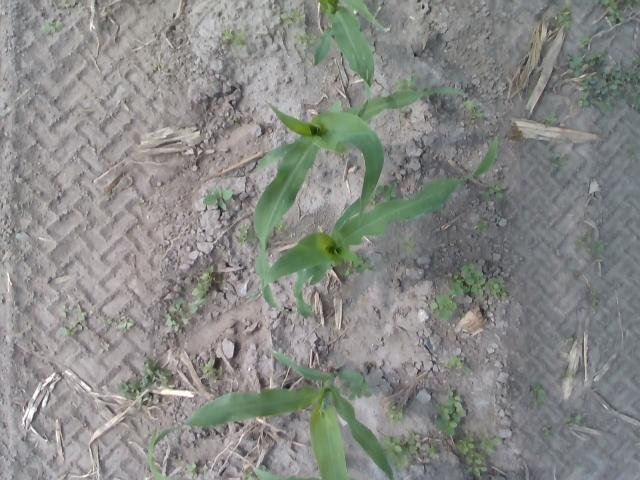Maize: (254, 86, 462, 310), (263, 136, 498, 318), (146, 351, 396, 480), (312, 0, 384, 96), (252, 467, 320, 480)
Weeds: (435, 390, 467, 436), (454, 264, 486, 294), (595, 68, 625, 97), (385, 436, 408, 472), (570, 55, 602, 78), (204, 188, 233, 211), (431, 296, 456, 319), (467, 450, 488, 477), (117, 376, 150, 393), (194, 269, 212, 297), (596, 0, 638, 11), (282, 7, 304, 27), (480, 432, 500, 452), (530, 384, 545, 410), (348, 384, 371, 400), (155, 368, 175, 384), (408, 430, 422, 452), (458, 436, 474, 455), (378, 183, 398, 198), (489, 276, 505, 294), (490, 183, 508, 198), (141, 358, 156, 376), (74, 303, 88, 322), (42, 22, 64, 34), (630, 84, 640, 110), (169, 298, 185, 314), (448, 357, 468, 369), (626, 68, 640, 84), (404, 236, 420, 250), (608, 8, 623, 22), (238, 226, 250, 243), (118, 318, 135, 330), (190, 300, 205, 313), (578, 92, 590, 108), (598, 101, 612, 114), (186, 464, 198, 479), (596, 237, 608, 252), (56, 327, 71, 339), (590, 290, 600, 308), (582, 80, 596, 92), (561, 0, 573, 14), (388, 406, 400, 420), (300, 35, 318, 44), (566, 416, 582, 426), (345, 264, 358, 276), (558, 14, 568, 28), (542, 425, 554, 436), (476, 220, 488, 231), (359, 264, 372, 274), (471, 110, 484, 120), (165, 318, 178, 328), (60, 306, 73, 316), (100, 342, 111, 353), (234, 32, 244, 44), (204, 362, 214, 374), (462, 100, 476, 108), (406, 76, 417, 86), (279, 221, 290, 231), (546, 112, 556, 123), (221, 29, 232, 39), (426, 446, 436, 456), (396, 80, 408, 88), (59, 0, 70, 8), (552, 154, 566, 160), (632, 58, 640, 68), (577, 238, 586, 246), (631, 150, 637, 162), (584, 36, 591, 45), (562, 336, 572, 342), (230, 116, 238, 122), (152, 66, 158, 72), (553, 163, 559, 168)
